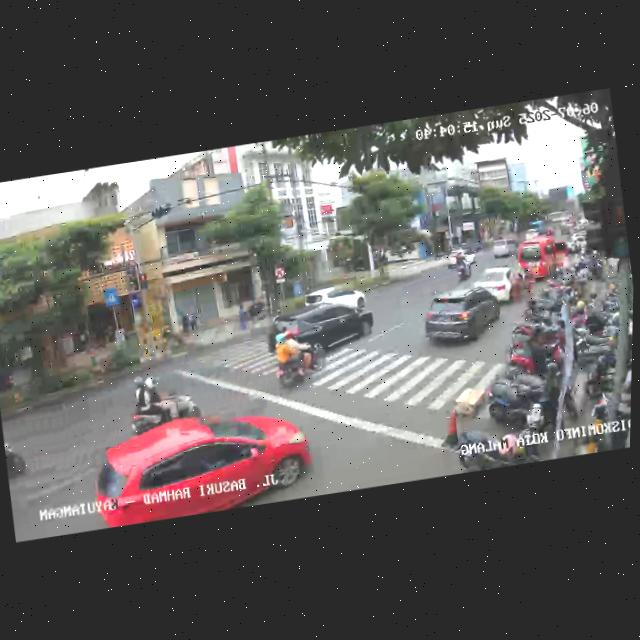car: (86, 400, 316, 529), (265, 292, 378, 364), (415, 283, 507, 352), (516, 232, 574, 284), (469, 264, 524, 308), (305, 283, 367, 318), (443, 245, 477, 273), (491, 238, 516, 261)
motorcycle: (123, 368, 194, 439), (267, 321, 324, 391), (2, 427, 45, 496), (452, 252, 472, 284)
